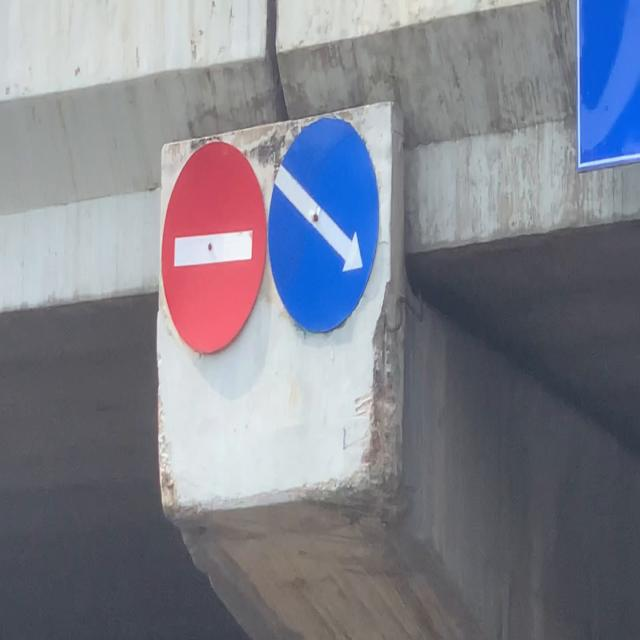Cam nguoc chieu: (160, 134, 268, 360)
Hieu lenh: (266, 115, 382, 336)
